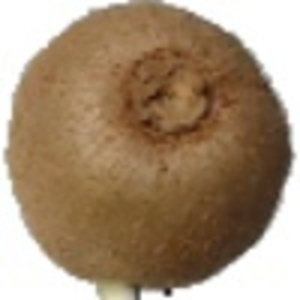kiwi: (3, 1, 296, 300)
